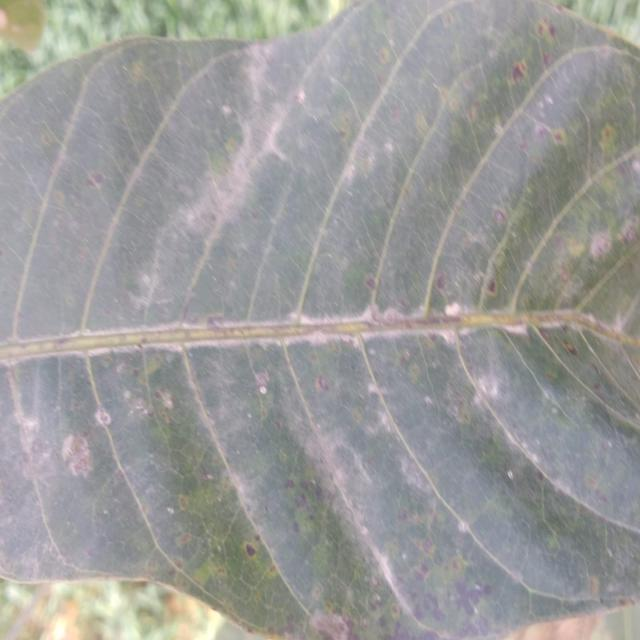Anthracnose: (366, 610, 399, 636), (534, 15, 558, 41), (241, 536, 260, 564), (511, 60, 523, 86)
Powdery Mildew: (363, 380, 406, 435), (55, 435, 102, 479), (12, 413, 49, 463), (94, 407, 114, 426), (444, 303, 463, 317), (258, 383, 271, 394)
